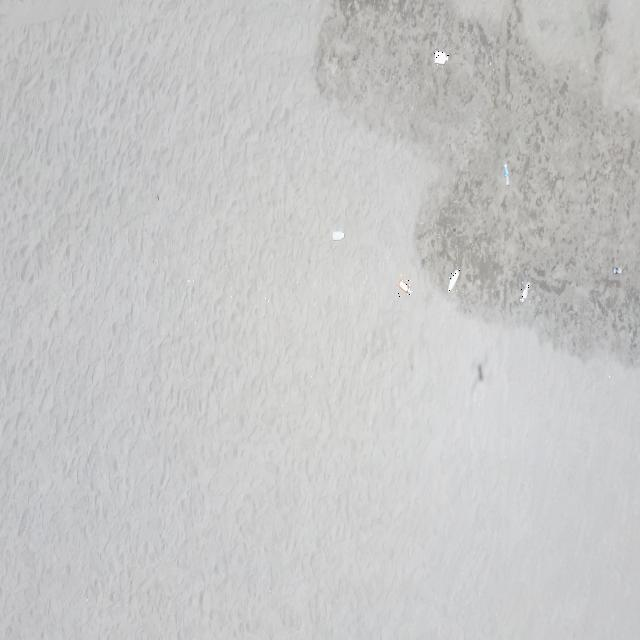plastic-bottle: (448, 269, 460, 294), (434, 50, 450, 67), (398, 279, 413, 297), (520, 281, 531, 303), (503, 163, 511, 187), (332, 229, 345, 242), (612, 266, 624, 278)
